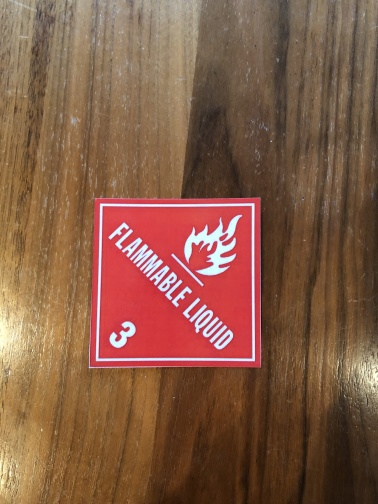FlammableLiquid: (88, 196, 264, 374)
